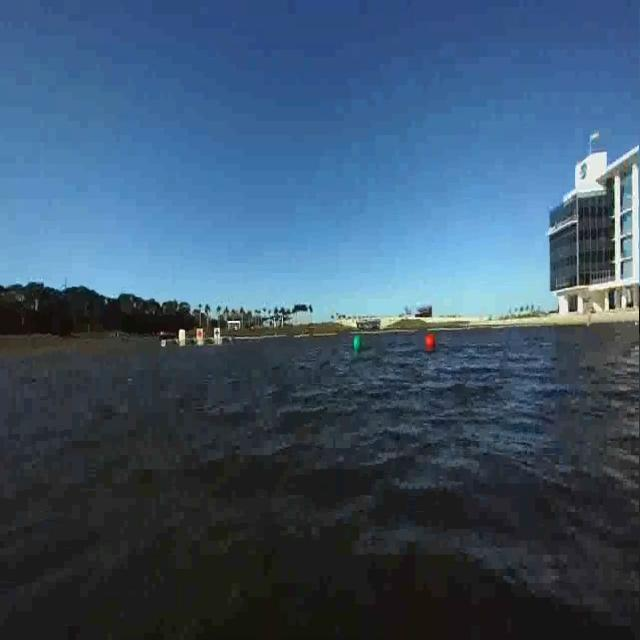green-buoy: (352, 332, 362, 353)
red-buoy: (425, 333, 436, 352)
